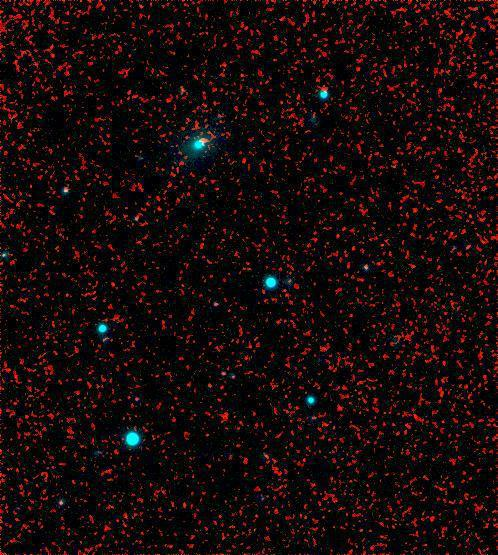star: (211, 401, 241, 431)
